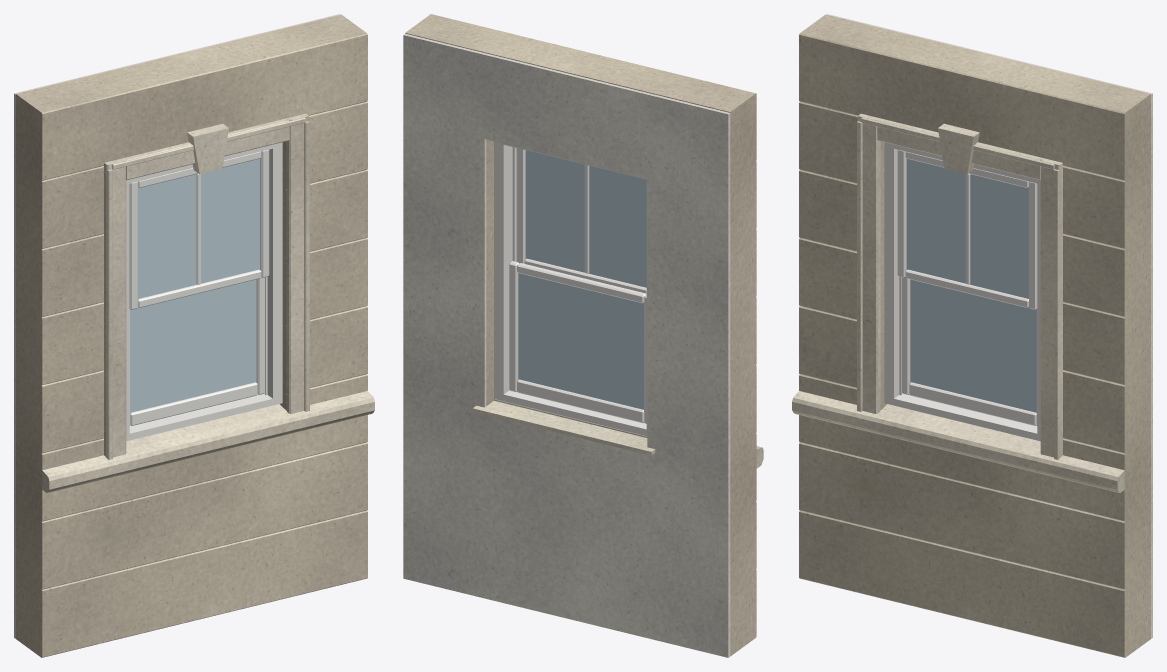
Rendered from pv_u2_window.glb.
3 views of the same model, side by side, from view 1: azimuth 30°, elevation 25°; view 2: azimuth 150°, elevation 25°; view 3: azimuth 330°, elevation 25° (orthographic).
Visible parts, largest first — view 1: pv_u2_window_ashlar, pv_u2_window_trim, pv_u2_window_glass, pv_u2_window_sash, pv_u2_window_frame, pv_u2_window_plaster; view 2: pv_u2_window_plaster, pv_u2_window_glass, pv_u2_window_ashlar, pv_u2_window_frame, pv_u2_window_sash, pv_u2_window_trim; view 3: pv_u2_window_ashlar, pv_u2_window_trim, pv_u2_window_glass, pv_u2_window_sash, pv_u2_window_frame, pv_u2_window_plaster.
Part boxes in pixels (x1=…): pv_u2_window_ashlar: x1=16, y1=14, x2=367, y2=657; pv_u2_window_trim: x1=42, y1=113, x2=374, y2=492; pv_u2_window_glass: x1=130, y1=159, x2=260, y2=412; pv_u2_window_sash: x1=129, y1=149, x2=269, y2=425; pv_u2_window_frame: x1=126, y1=142, x2=282, y2=441; pv_u2_window_plaster: x1=14, y1=14, x2=340, y2=638; pv_u2_window_plaster: x1=403, y1=33, x2=730, y2=657; pv_u2_window_glass: x1=518, y1=150, x2=646, y2=409; pv_u2_window_ashlar: x1=405, y1=14, x2=756, y2=656; pv_u2_window_frame: x1=494, y1=141, x2=647, y2=436; pv_u2_window_sash: x1=509, y1=148, x2=646, y2=423; pv_u2_window_trim: x1=472, y1=399, x2=763, y2=468; pv_u2_window_ashlar: x1=799, y1=14, x2=1150, y2=657; pv_u2_window_trim: x1=792, y1=113, x2=1124, y2=492; pv_u2_window_glass: x1=906, y1=159, x2=1036, y2=412; pv_u2_window_sash: x1=897, y1=149, x2=1037, y2=425; pv_u2_window_frame: x1=884, y1=142, x2=1040, y2=441; pv_u2_window_plaster: x1=826, y1=14, x2=1152, y2=638.
Size of the model in its own units: 2 by 3.2 by 0.415.
Materials: 6 (3 with a texture image).
